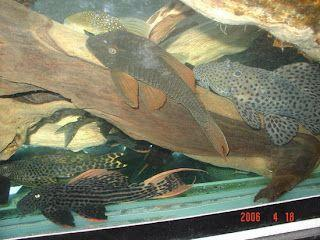Janitor Fish: (84, 26, 230, 161), (6, 166, 203, 229), (5, 149, 136, 194)
